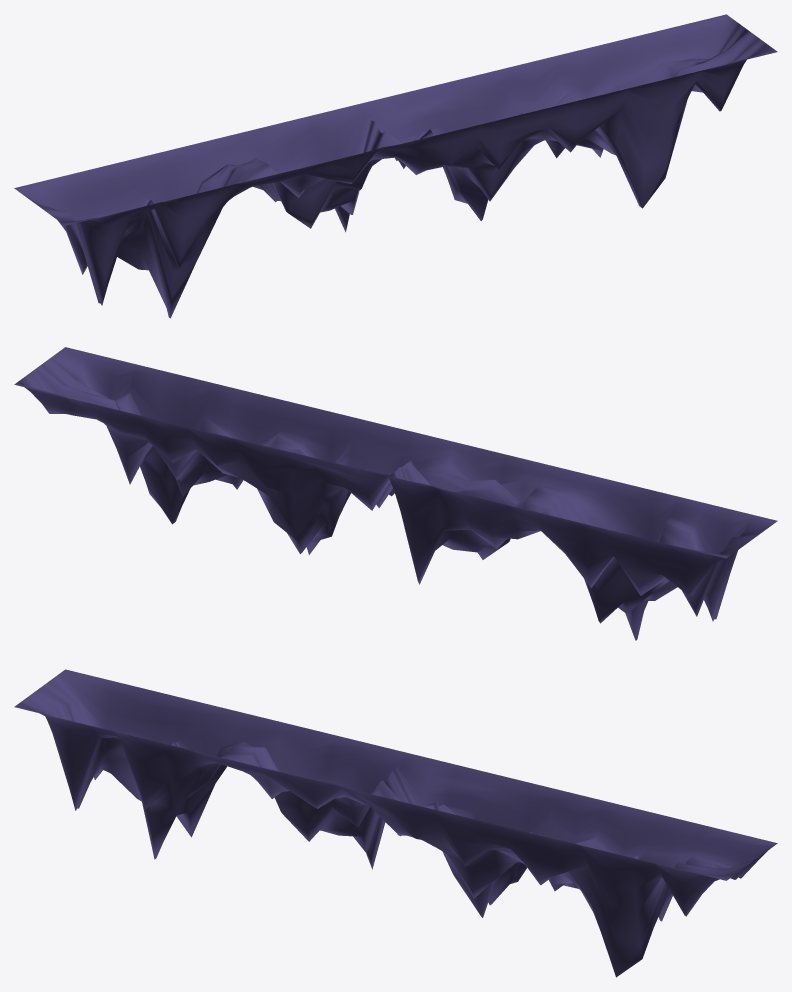
File: Terain5.fbx
3 renders of one model, top to bottom at view 1: azimuth 30°, elevation 25°; view 2: azimuth 150°, elevation 25°; view 3: azimuth 330°, elevation 25°, orthographic.
Parts seen in each view (by area): view 1: Trrain 2.001; view 2: Trrain 2.001; view 3: Trrain 2.001.
Boxes of the visible parts, <box> form: Trrain 2.001: <box>14,14,777,318</box>; Trrain 2.001: <box>14,347,777,640</box>; Trrain 2.001: <box>14,669,777,977</box>.
Size of the model in its own units: 2000 by 364 by 250.
